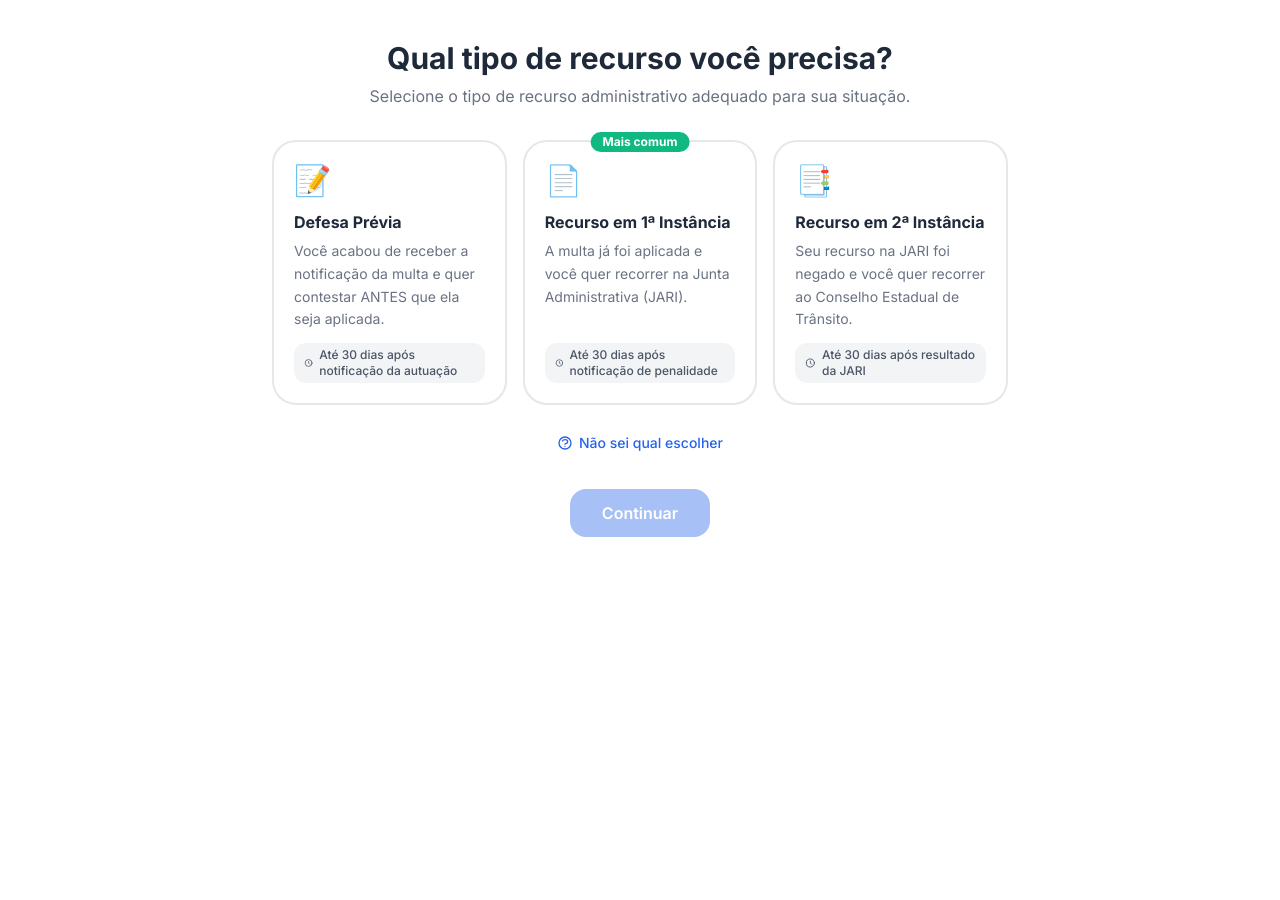
ResourceTypeSelectionComponent › Quiz Integration › should open quiz modal when link is clicked
The width and height of the screenshot is (1280, 900).
What coordinates should you click on to do the following:
click the button "Não sei qual escolher"
I would click on:
 (640, 443)
Its box is [549, 429, 731, 457].
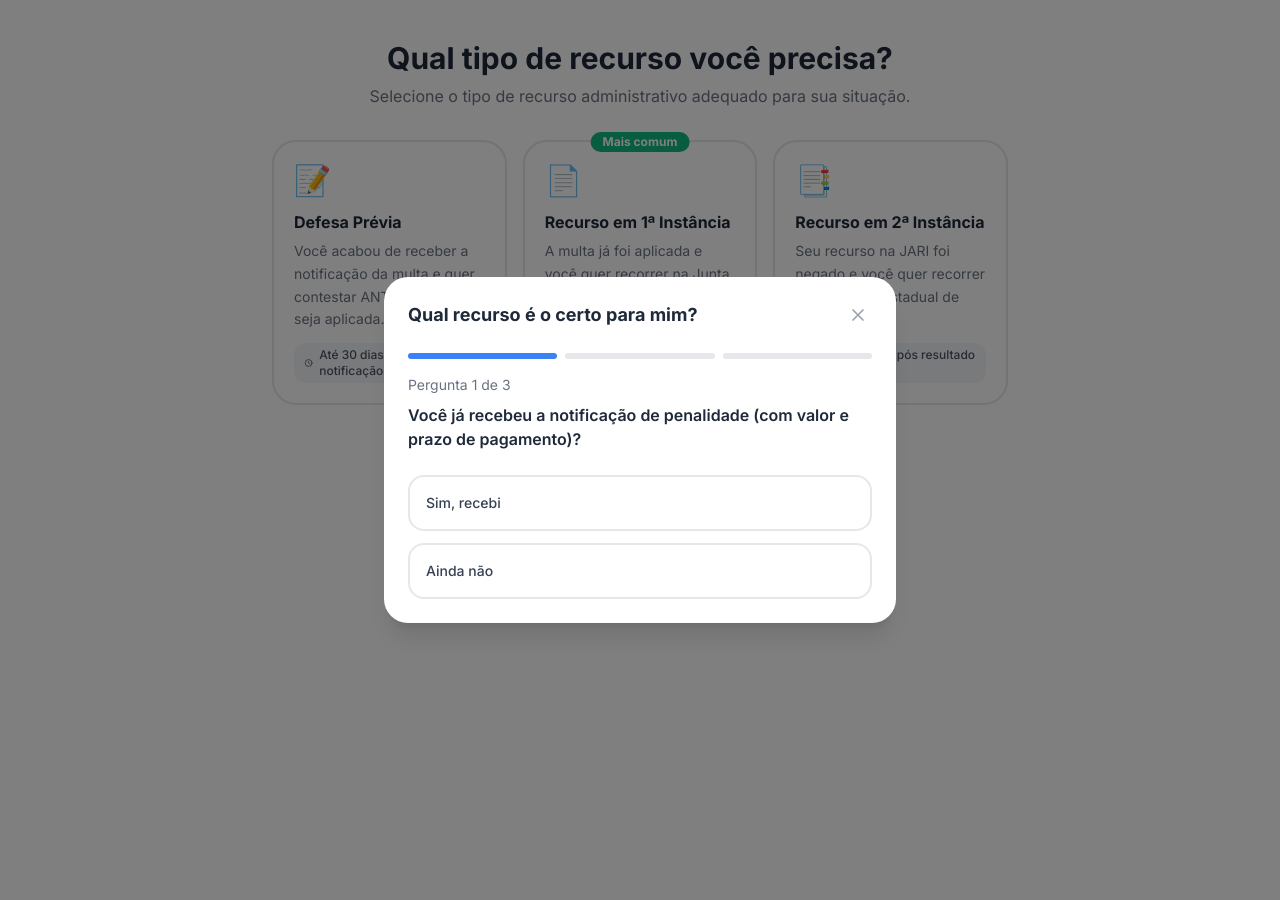
Expected: the dialog is shown, [384, 277, 896, 623]
